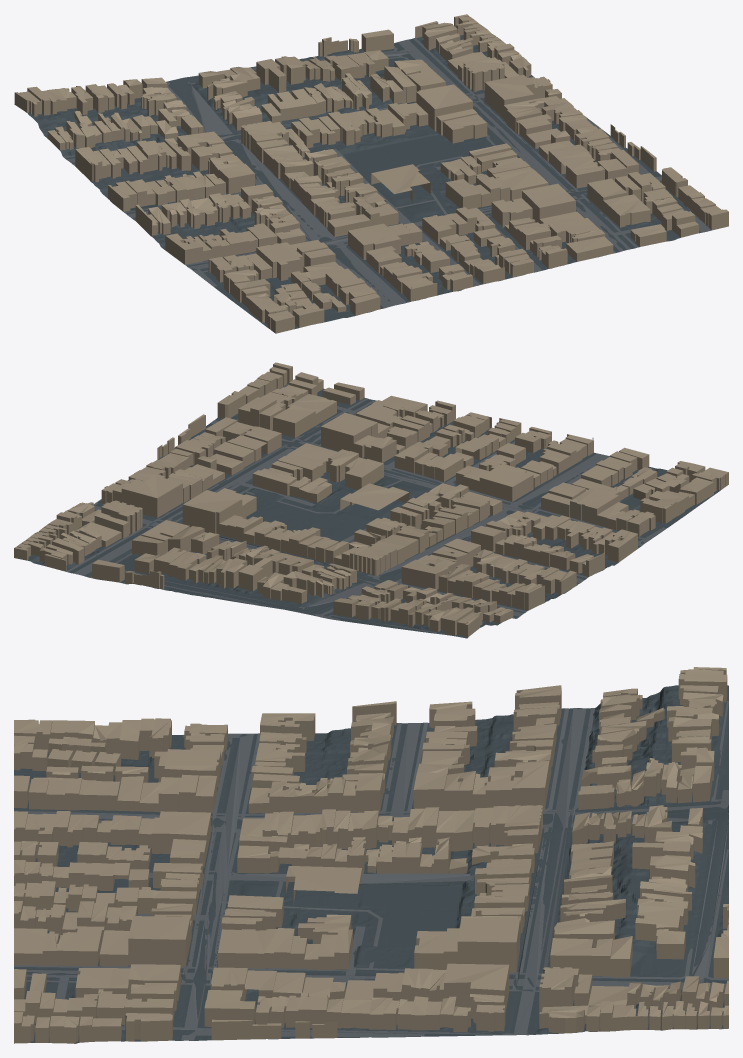
Rendered from epsg26910-1434-10883.lod0.glb.
3 views of the same model, one above another, from view 1: azimuth 30°, elevation 25°; view 2: azimuth 150°, elevation 25°; view 3: azimuth 270°, elevation 25° (orthographic). The views are drawn at different scales.
Parts seen in each view (by area): view 1: epsg26910-1434-10883-lod0; view 2: epsg26910-1434-10883-lod0; view 3: epsg26910-1434-10883-lod0.
Boxes of the visible parts, x1,y1,x2,y2 form: epsg26910-1434-10883-lod0: [14, 14, 728, 333]; epsg26910-1434-10883-lod0: [14, 362, 728, 638]; epsg26910-1434-10883-lod0: [14, 667, 728, 1043].
Size of the model in its own units: 384 by 45.07 by 384.
